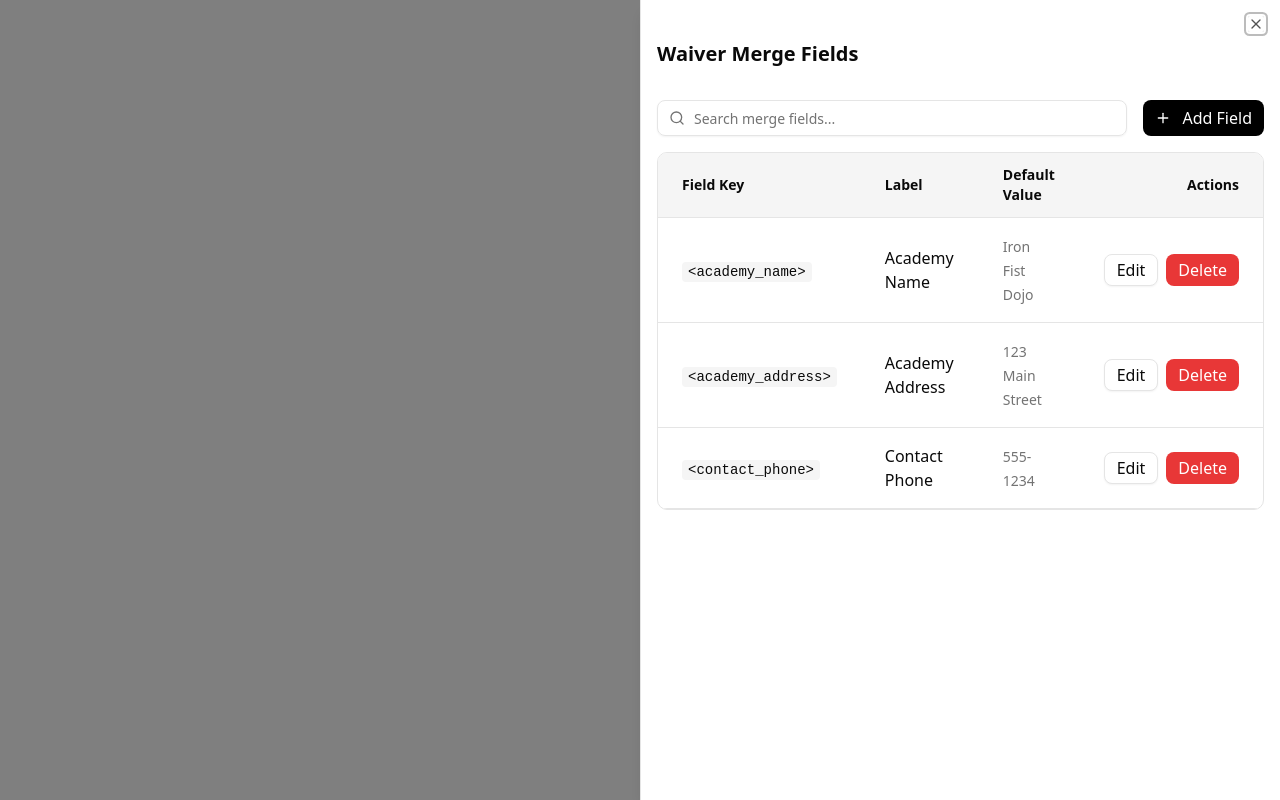
Scenario: MergeFieldsManagement › Add Button › should open AddMergeFieldModal when Add Field is clicked
Check: the text "Academy Name" is shown, box [885, 247, 954, 293]
Click the button "Add Field".
click(1203, 118)  # box [1142, 100, 1264, 136]
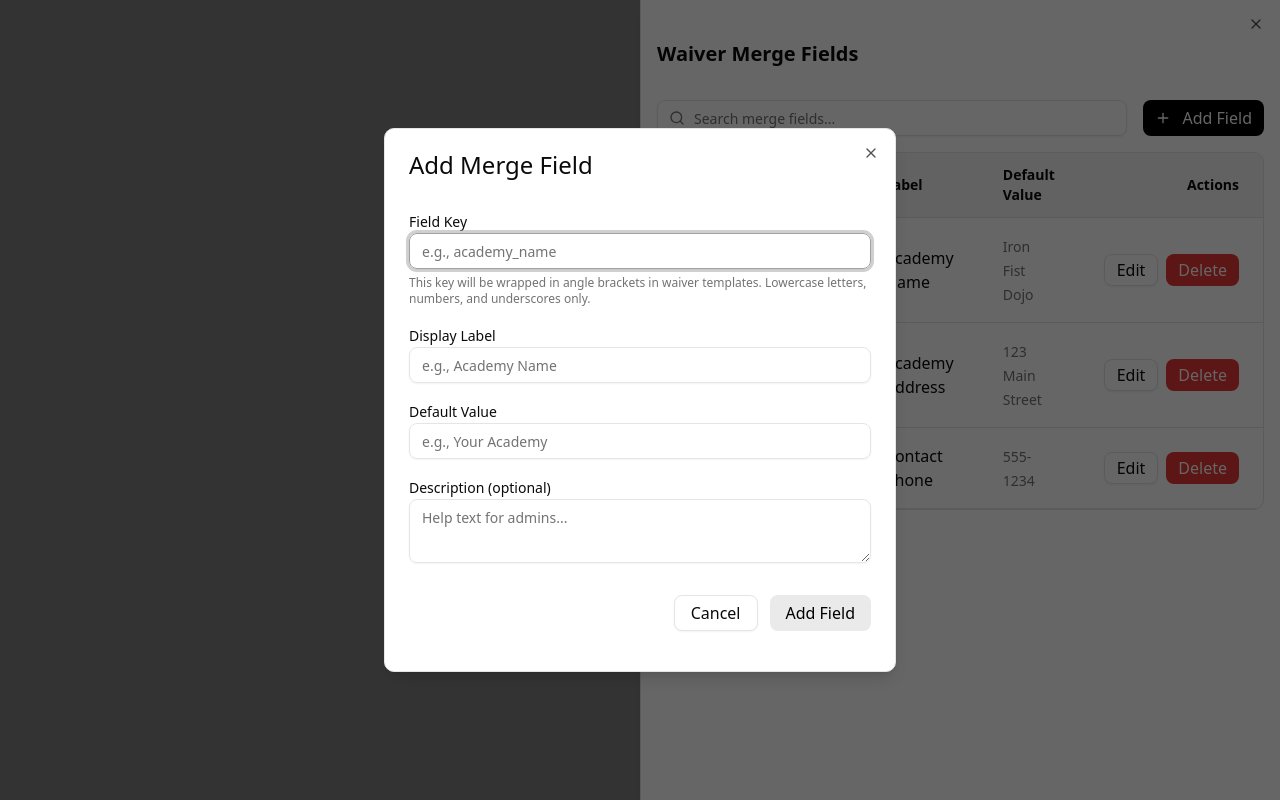
Check: the heading "Add Merge Field" is shown, box [409, 148, 593, 181]
